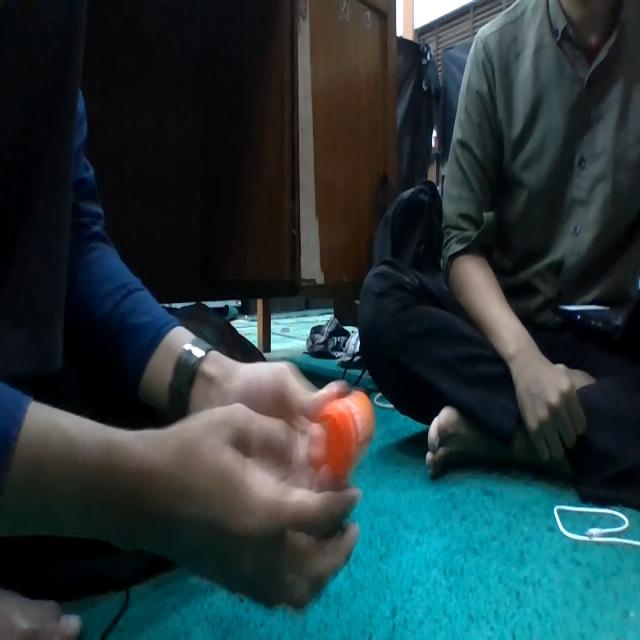Boncabe: (310, 389, 374, 484)
